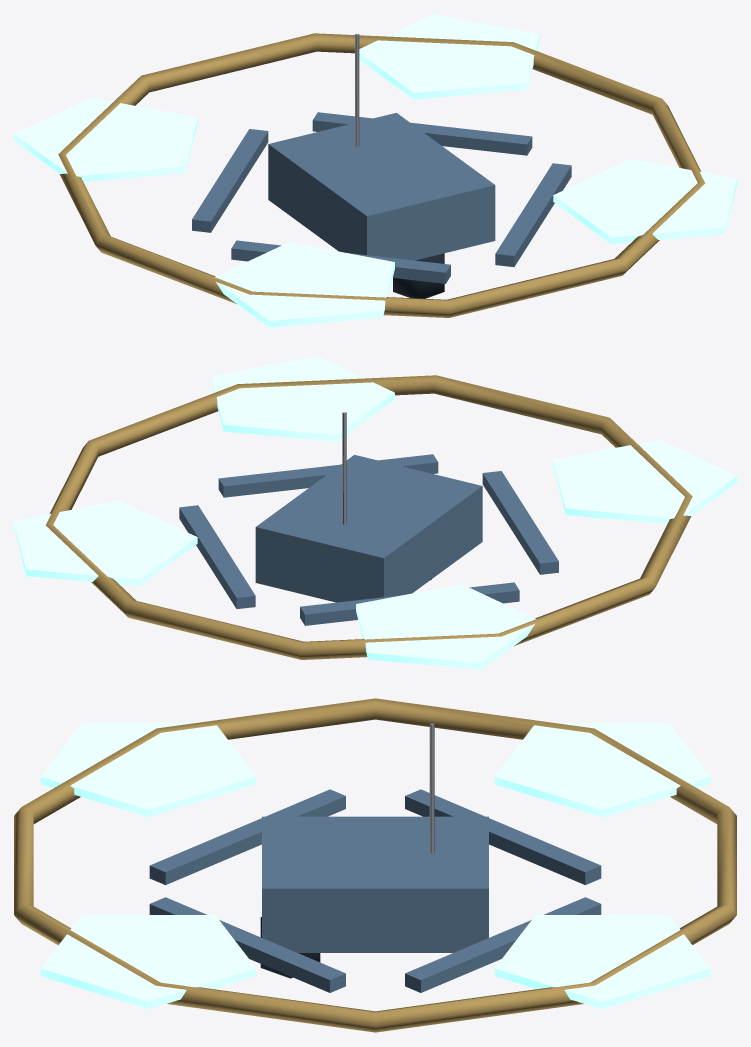
The model's file is veh_air_drone_recon_a10_lod1.glb.
3 renders of one model, top to bottom at view 1: azimuth 30°, elevation 25°; view 2: azimuth 150°, elevation 25°; view 3: azimuth 270°, elevation 25°, orthographic. The views are drawn at different scales.
Parts seen in each view (by area): view 1: body, rotor_1, rotor_0, rotor_2, rotor_3; view 2: body, rotor_3, rotor_2, rotor_1, rotor_0; view 3: body, rotor_0, rotor_2, rotor_1, rotor_3.
Part boxes in pixels (x1=…): body: x1=58, y1=33, x2=705, y2=317; rotor_1: x1=214, y1=242, x2=394, y2=327; rotor_0: x1=553, y1=158, x2=736, y2=244; rotor_2: x1=359, y1=14, x2=539, y2=99; rotor_3: x1=14, y1=97, x2=197, y2=181; body: x1=45, y1=375, x2=692, y2=659; rotor_3: x1=356, y1=584, x2=536, y2=669; rotor_2: x1=14, y1=500, x2=197, y2=586; rotor_1: x1=553, y1=439, x2=736, y2=523; rotor_0: x1=211, y1=356, x2=394, y2=441; body: x1=14, y1=698, x2=736, y2=1032; rotor_0: x1=40, y1=915, x2=256, y2=1009; rotor_2: x1=494, y1=915, x2=710, y2=1009; rotor_1: x1=40, y1=723, x2=256, y2=817; rotor_3: x1=494, y1=723, x2=710, y2=817.
Size of the model in its own units: 2.68 by 0.99 by 2.55.
